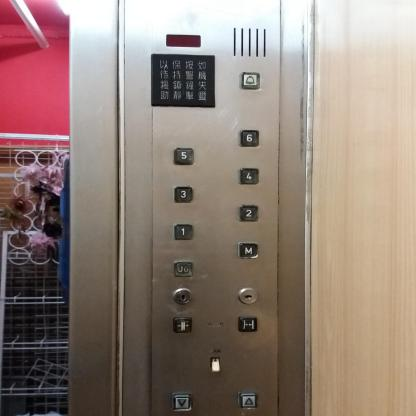1: (172, 223, 194, 241)
2: (237, 203, 261, 223)
3: (173, 185, 194, 204)
4: (238, 167, 260, 186)
5: (172, 146, 195, 166)
6: (238, 128, 260, 148)
M: (236, 240, 260, 260)
UG: (172, 260, 194, 278)
alarm: (239, 70, 261, 91)
close: (237, 315, 259, 333)
down: (172, 390, 192, 410)
keyhole: (170, 286, 194, 305), (236, 286, 258, 306)
open: (171, 315, 194, 334)
switch: (209, 355, 222, 374)
up: (238, 390, 258, 410)
